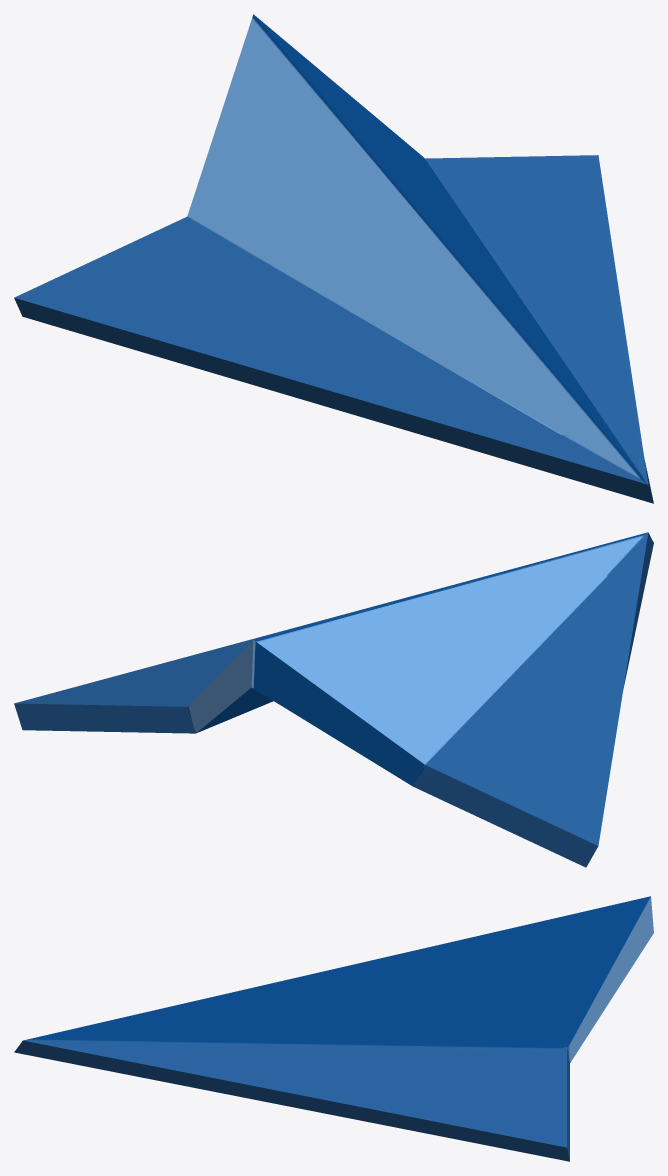
3 renders of one model, top to bottom at view 1: azimuth 30°, elevation 25°; view 2: azimuth 150°, elevation 25°; view 3: azimuth 270°, elevation 25°, orthographic. The views are drawn at different scales.
Parts seen in each view (by area): view 1: 立方体.001; view 2: 立方体.001; view 3: 立方体.001.
Boxes of the visible parts, x1=… form: 立方体.001: x1=14, y1=14, x2=653, y2=503; 立方体.001: x1=14, y1=532, x2=653, y2=867; 立方体.001: x1=14, y1=896, x2=653, y2=1161.
Size of the model in its own units: 2.8 by 0.901 by 3.34.
Materials: 1 (1 with a texture image).
